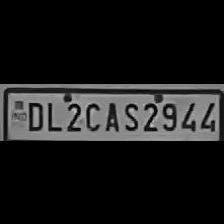2: (62, 98, 82, 132), (140, 98, 158, 132)
4: (196, 97, 216, 131), (178, 97, 196, 131)
9: (158, 98, 178, 132)
A: (101, 97, 119, 132)
C: (82, 98, 102, 132)
D: (23, 98, 44, 132)
L: (42, 97, 62, 131)
S: (120, 98, 140, 132)
